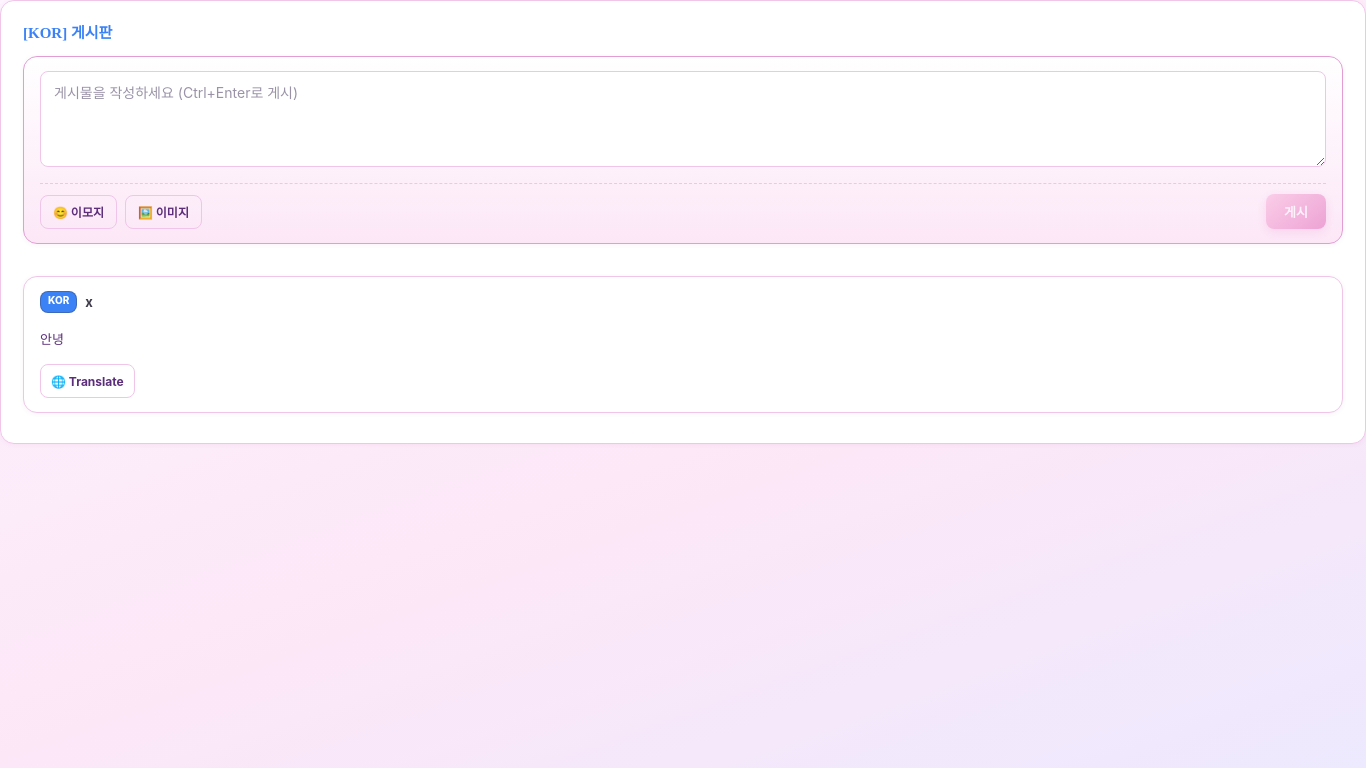
Test: Board 번역 › UI 언어 other는 en으로 요청하고 버튼 문구는 i18n(en 폴백)이다
Click the button "🌐 Translate": (87, 381) 40,364 -> 135,398
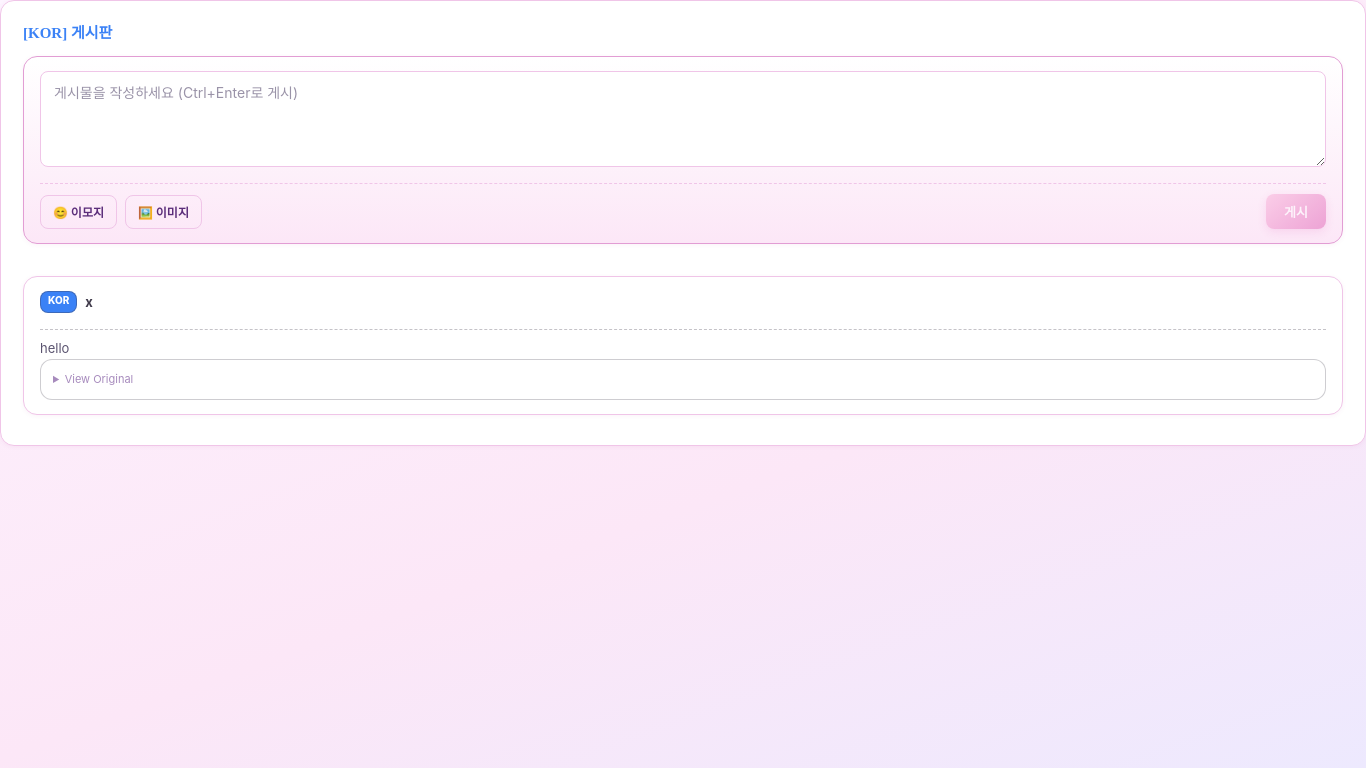
Result: the text "hello" is shown at 40,329 -> 1326,359
